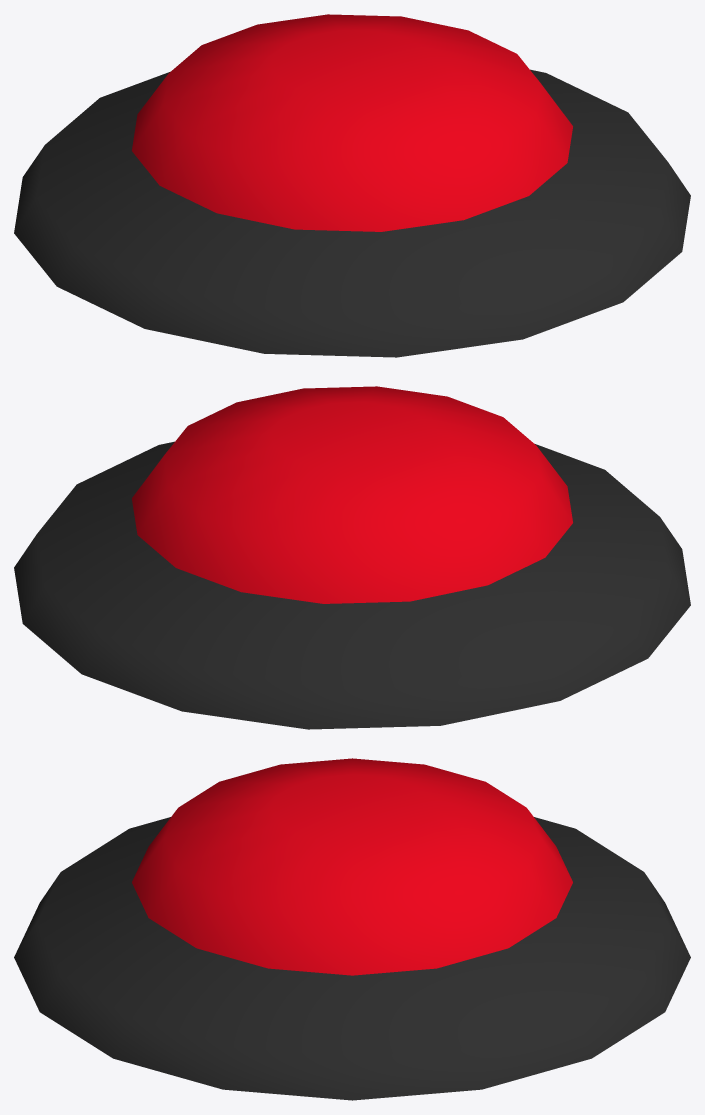
Rendered from button_1.fbx.
3 views of the same model, one above another, from view 1: azimuth 30°, elevation 25°; view 2: azimuth 150°, elevation 25°; view 3: azimuth 270°, elevation 25° (orthographic).
Parts seen in each view (by area): view 1: Cube.025; view 2: Cube.025; view 3: Cube.025.
Part boxes in pixels (x1,y1,x2,y2): Cube.025: [14, 14, 690, 357]; Cube.025: [14, 386, 690, 729]; Cube.025: [14, 758, 690, 1100].
Bounding box in the file's own units: 0.664 × 0.1606 × 0.664.
